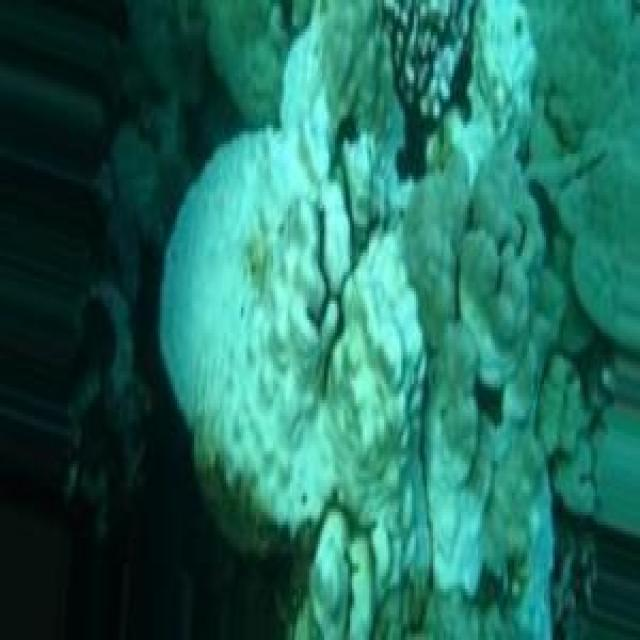Bleached: (161, 129, 349, 529), (295, 238, 432, 638)
